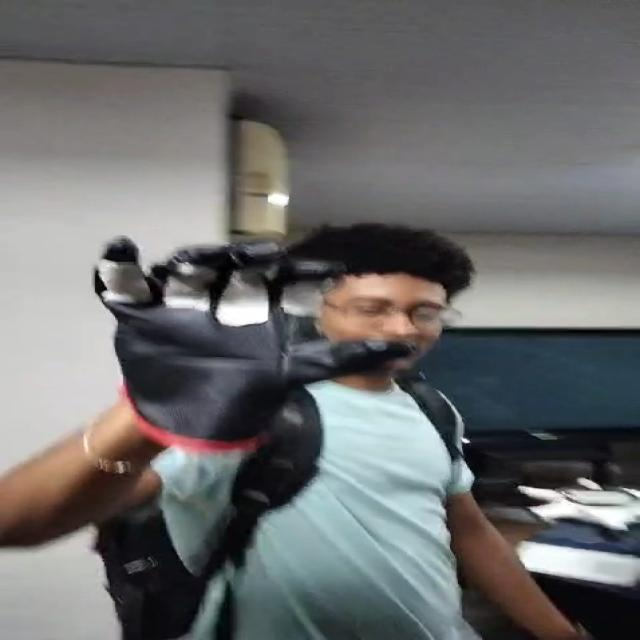Gloves: (80, 235, 405, 450)
